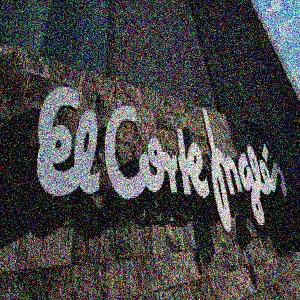corte_ingles: (3, 191, 300, 267)
